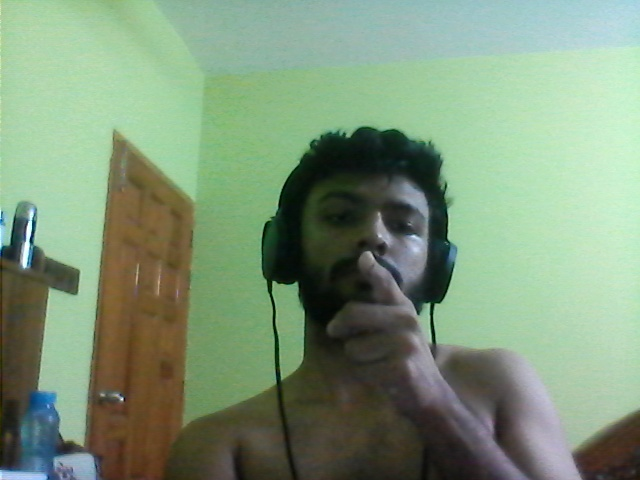You: (314, 241, 473, 429)
